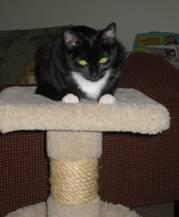cat: (34, 22, 127, 103)
